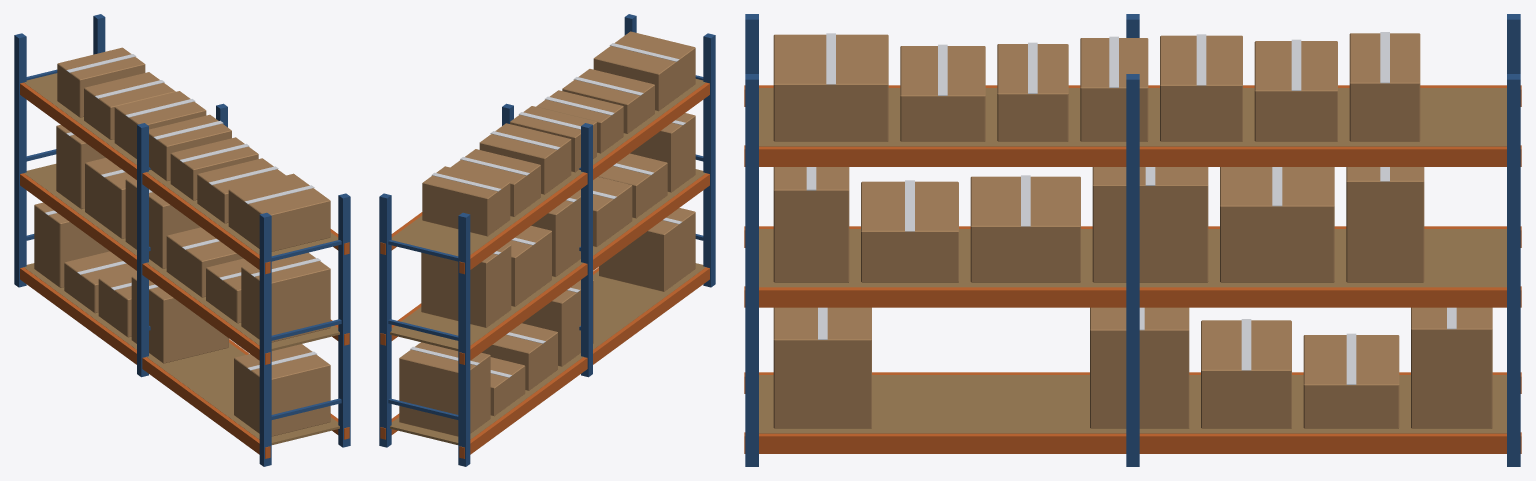
The model's file is rack.glb.
3 views of the same model, side by side, from view 1: azimuth 30°, elevation 25°; view 2: azimuth 150°, elevation 25°; view 3: azimuth 270°, elevation 25° (orthographic). The views are drawn at different scales.
Parts seen in each view (by area): view 1: rack; view 2: rack; view 3: rack.
Part boxes in pixels (x1,y1,x2,y2): rack: (14,14,350,466); rack: (379,14,715,466); rack: (744,14,1521,466).
Bounding box in the file's own units: 0.8 × 2.2 × 4.
